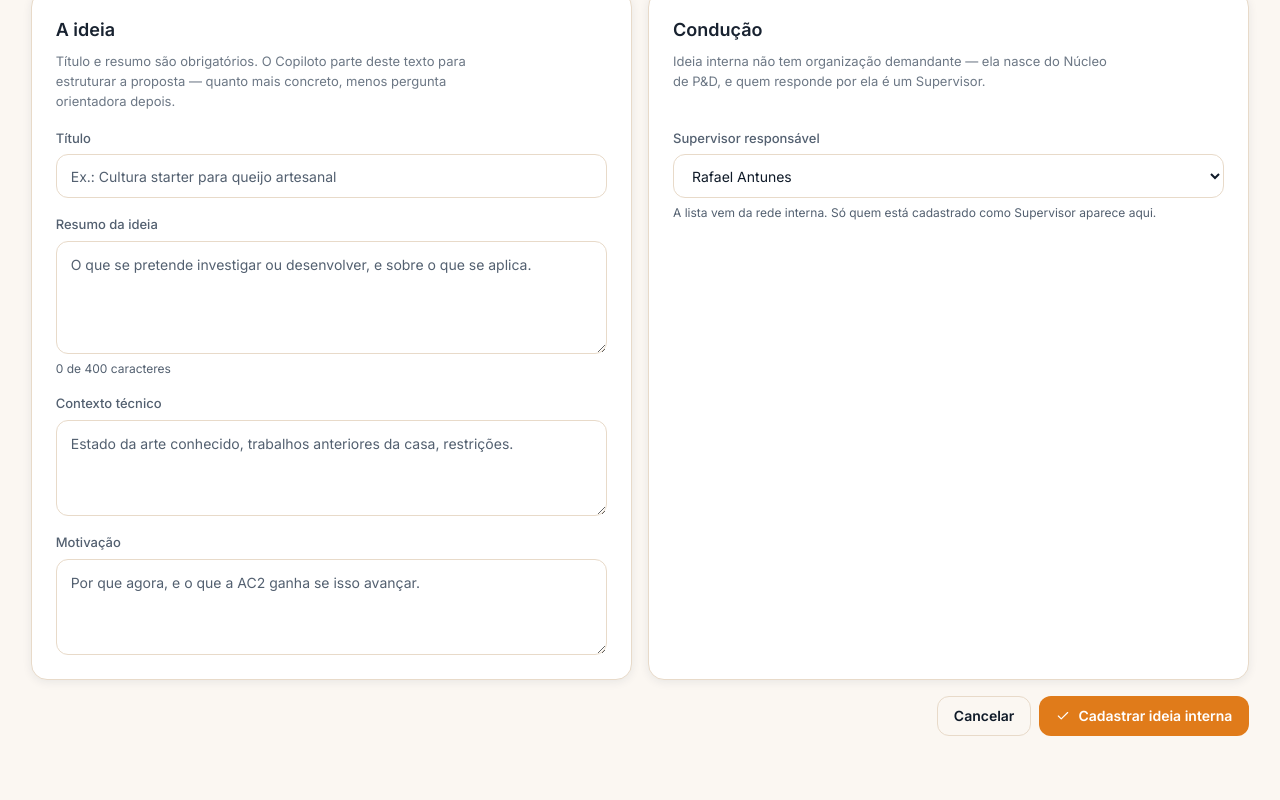
Scenario: IdeiaFormPage — rascunho e guarda de saída › não segura a saída com o formulário intocado, mesmo com responsável preenchido
(page scrolled)
Click the link "Cancelar": (984, 716) 937,696 -> 1031,736
(page scrolled)
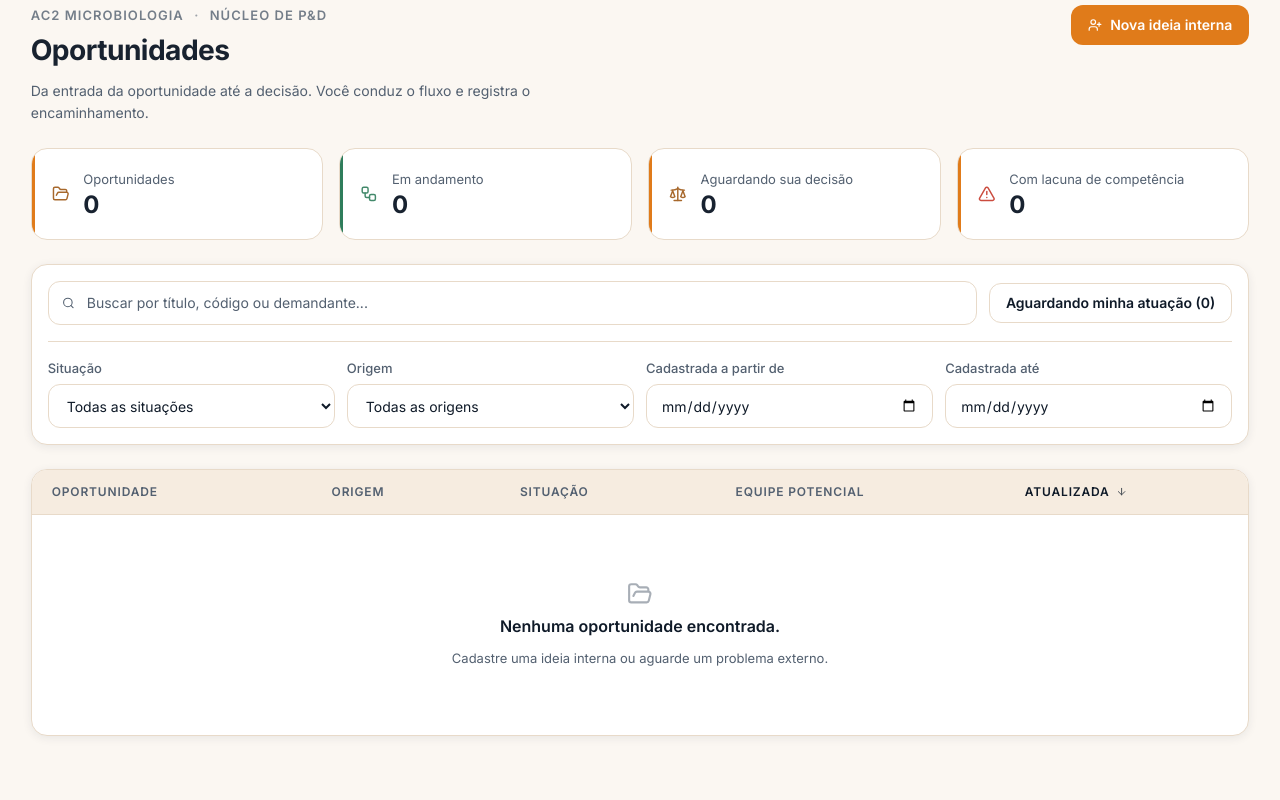
Expected: the heading "Oportunidades" is shown, 31,33 -> 230,67
